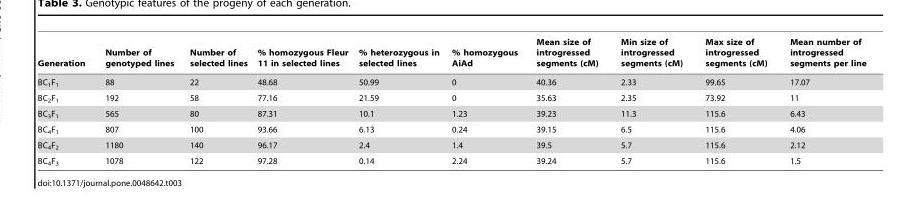table: (37, 37, 866, 165)
table column: (252, 37, 353, 165), (353, 37, 445, 165), (778, 37, 866, 165), (95, 37, 182, 165), (609, 37, 694, 165), (694, 37, 778, 165), (445, 37, 527, 165), (527, 37, 609, 165), (182, 37, 252, 165), (37, 37, 95, 165)
table column header: (37, 37, 866, 72)
table row: (37, 37, 866, 72), (37, 72, 866, 90), (37, 105, 866, 121), (37, 121, 866, 137), (37, 137, 866, 153), (37, 90, 866, 105), (37, 153, 866, 165)
